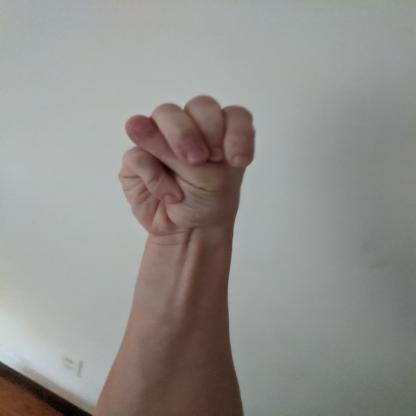M: (113, 91, 261, 240)
